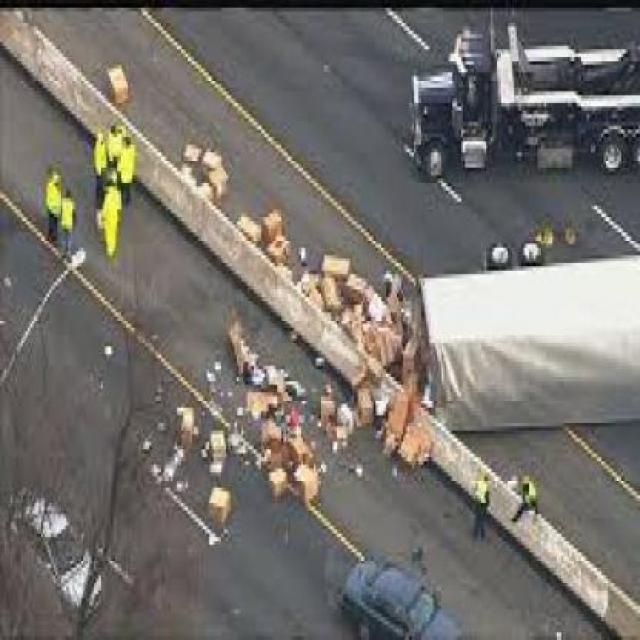accident: (297, 241, 637, 459)
